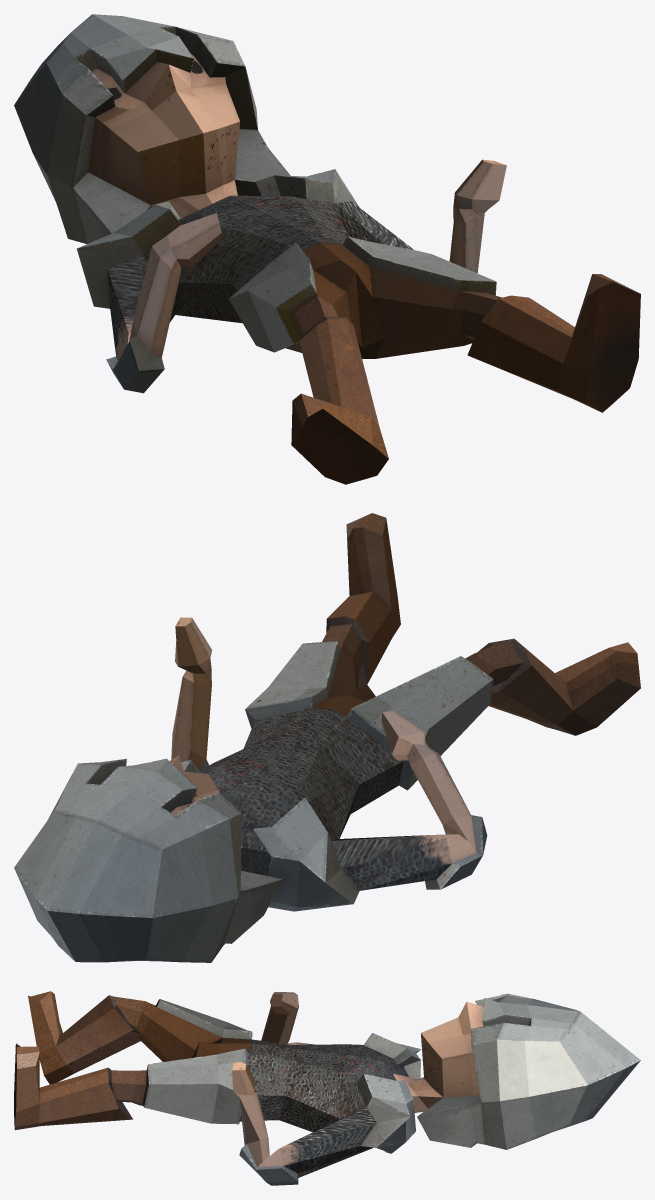
File: Walk_Soldier_23.obj
The picture shows the model from 3 angles, top to bottom: view 1: azimuth 30°, elevation 25°; view 2: azimuth 150°, elevation 25°; view 3: azimuth 270°, elevation 25°; orthographic projection. The views are drawn at different scales.
Parts seen in each view (by area): view 1: Soldado_LowPolySTD; view 2: Soldado_LowPolySTD; view 3: Soldado_LowPolySTD.
Part boxes in pixels (left/top/right/bottom): Soldado_LowPolySTD: left=14, top=14, right=640, bottom=484; Soldado_LowPolySTD: left=14, top=513, right=640, bottom=962; Soldado_LowPolySTD: left=14, top=991, right=640, bottom=1185.
Bounding box in the file's own units: 0.7313 × 0.3958 × 1.6.
